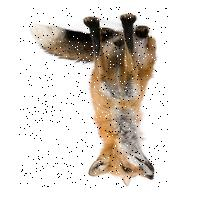fox: (18, 6, 167, 188)
